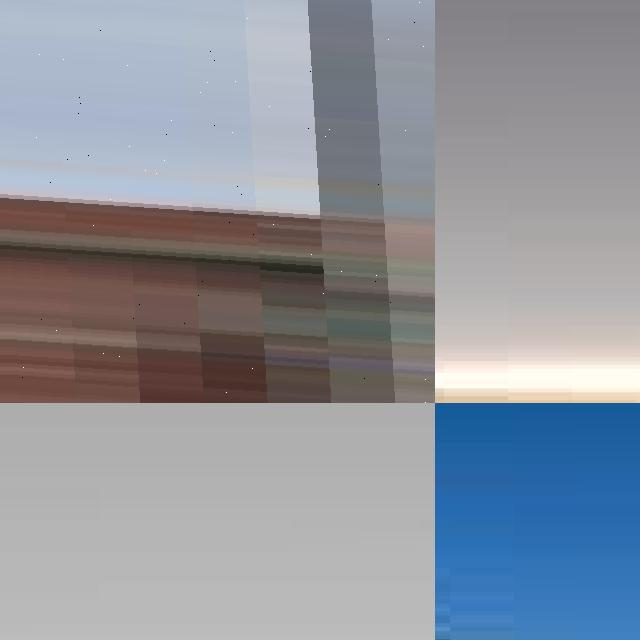street light: (0, 0, 435, 403)
